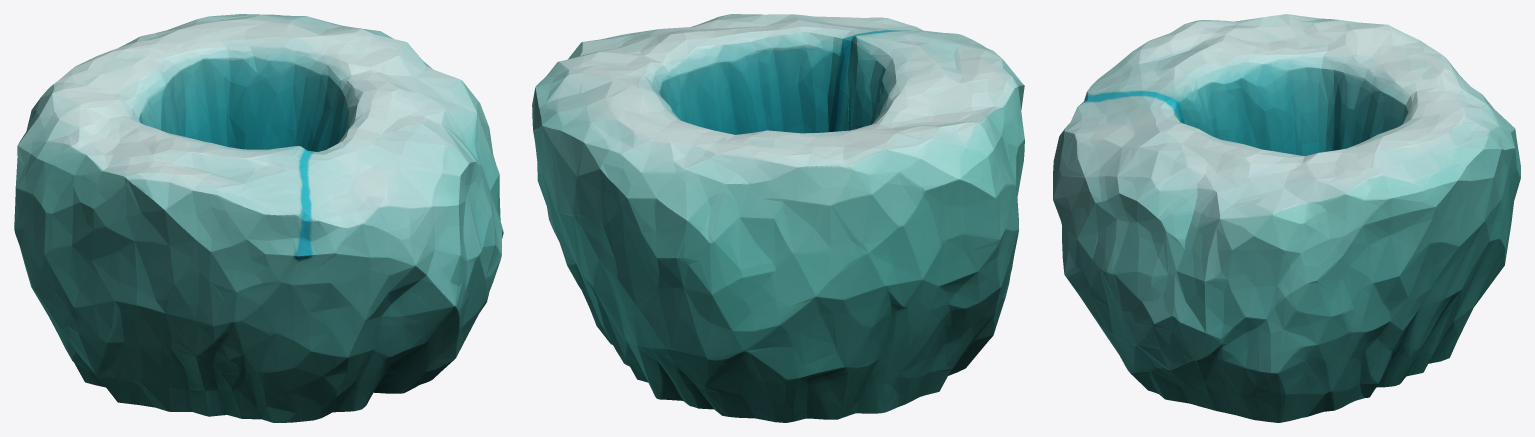
The picture shows the model from 3 angles, left to right: view 1: azimuth 30°, elevation 25°; view 2: azimuth 150°, elevation 25°; view 3: azimuth 270°, elevation 25°; orthographic projection. The views are drawn at different scales.
Parts seen in each view (by area): view 1: world; view 2: world; view 3: world.
Part boxes in pixels (<box>): world: <box>14,14,503,422</box>; world: <box>532,14,1024,422</box>; world: <box>1053,14,1520,422</box>.
Size of the model in its own units: 0.9828 by 0.5498 by 0.9475.
Materials: 2 (1 with a texture image).
